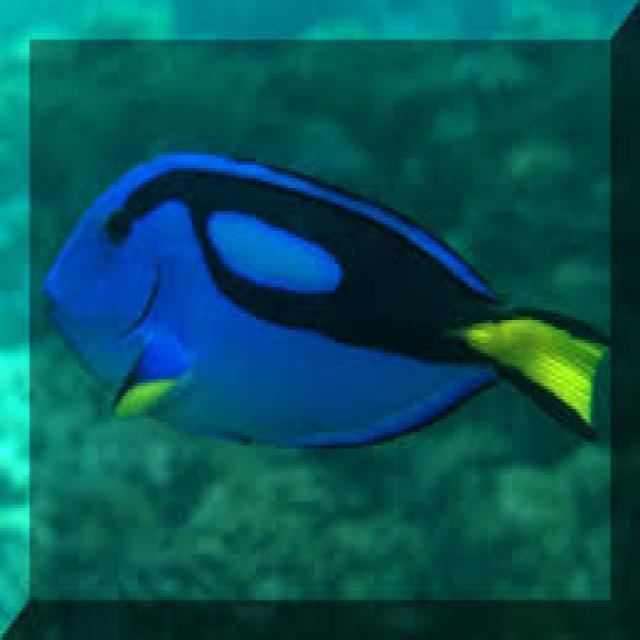TangFish: (40, 144, 603, 452)
